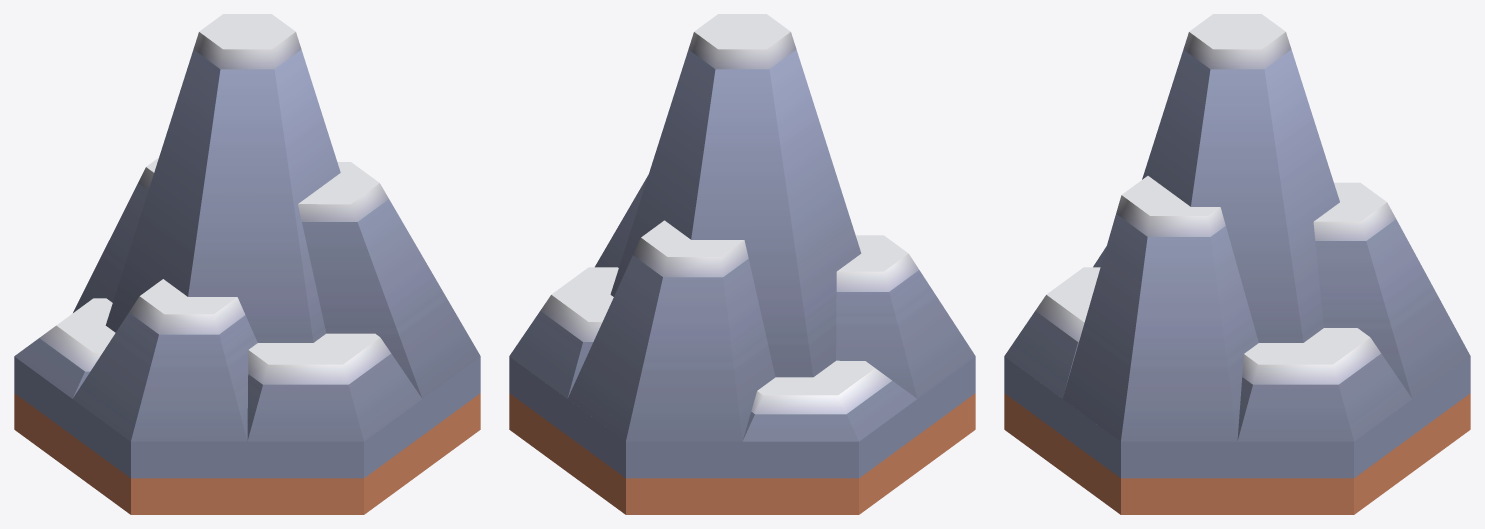
File: kenney-hexagon-stone-mountain.glb
3 renders of one model, left to right at view 1: azimuth 30°, elevation 25°; view 2: azimuth 150°, elevation 25°; view 3: azimuth 270°, elevation 25°, orthographic.
Parts seen in each view (by area): view 1: stone_mountain; view 2: stone_mountain; view 3: stone_mountain.
Boxes of the visible parts, x1,y1,x2,y2 form: stone_mountain: [14, 14, 480, 514]; stone_mountain: [509, 14, 975, 514]; stone_mountain: [1004, 14, 1470, 514].
Bounding box in the file's own units: 1 × 1.09 × 1.15.
1 material, 1 textured.
